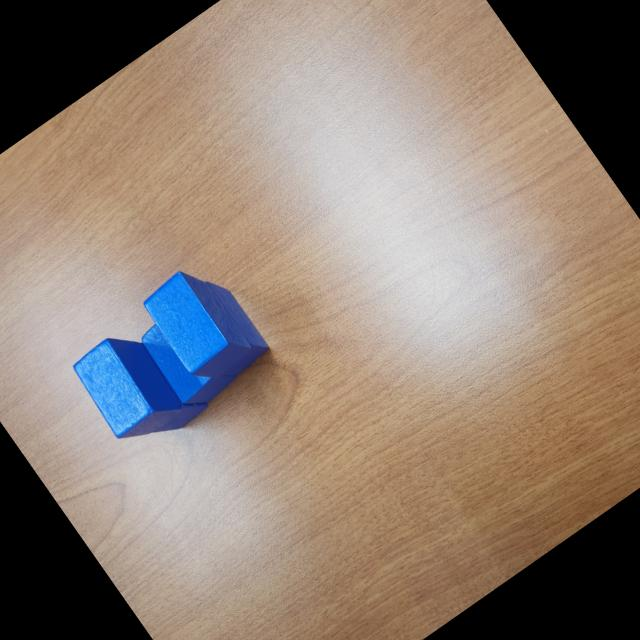blue: (66, 320, 192, 454), (137, 260, 255, 388), (168, 270, 275, 388), (109, 330, 213, 442), (133, 303, 234, 415)
